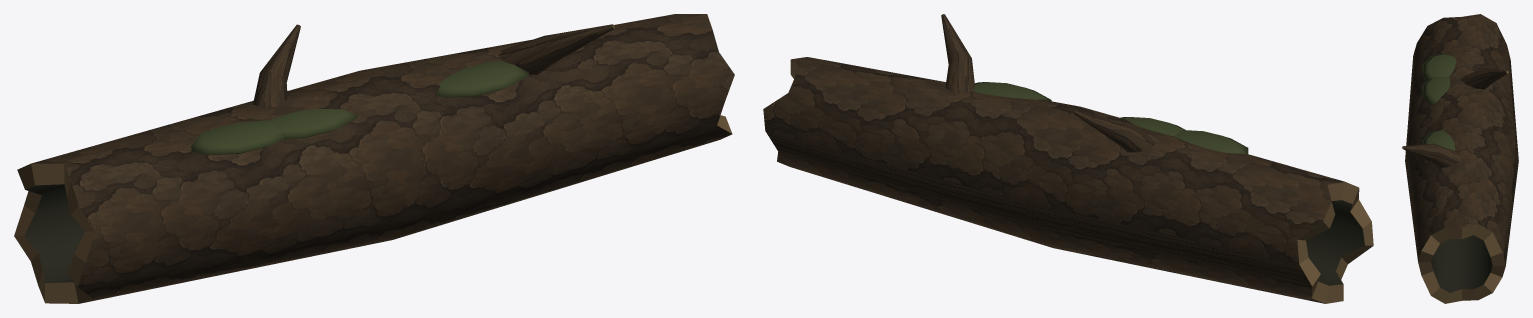
The picture shows the model from 3 angles, left to right: view 1: azimuth 30°, elevation 25°; view 2: azimuth 150°, elevation 25°; view 3: azimuth 270°, elevation 25°; orthographic projection. The views are drawn at different scales.
Visible parts, largest first — view 1: Hollow fallen forest trunk, Broken heavy branch.001, Moss cushion, Moss cushion.002, Broken heavy branch, Moss cushion.001; view 2: Hollow fallen forest trunk, Broken heavy branch.001, Broken heavy branch, Moss cushion, Moss cushion.002, Moss cushion.001; view 3: Hollow fallen forest trunk, Broken heavy branch.001, Moss cushion, Broken heavy branch, Moss cushion.001, Moss cushion.002.
Boxes of the visible parts, x1=… form: Hollow fallen forest trunk: x1=14, y1=14, x2=734, y2=303; Broken heavy branch.001: x1=498, y1=24, x2=614, y2=74; Moss cushion: x1=190, y1=120, x2=284, y2=155; Moss cushion.002: x1=436, y1=61, x2=528, y2=97; Broken heavy branch: x1=253, y1=24, x2=300, y2=107; Moss cushion.001: x1=268, y1=109, x2=357, y2=138; Hollow fallen forest trunk: x1=763, y1=57, x2=1373, y2=303; Broken heavy branch.001: x1=941, y1=14, x2=974, y2=95; Broken heavy branch: x1=1073, y1=110, x2=1159, y2=152; Moss cushion: x1=1174, y1=130, x2=1248, y2=153; Moss cushion.002: x1=972, y1=82, x2=1051, y2=101; Moss cushion.001: x1=1120, y1=117, x2=1185, y2=136; Hollow fallen forest trunk: x1=1405, y1=14, x2=1518, y2=303; Broken heavy branch.001: x1=1402, y1=143, x2=1467, y2=168; Moss cushion: x1=1422, y1=53, x2=1455, y2=80; Broken heavy branch: x1=1460, y1=68, x2=1508, y2=89; Moss cushion.001: x1=1422, y1=76, x2=1449, y2=105; Moss cushion.002: x1=1422, y1=130, x2=1455, y2=150.
Bounding box in the file's own units: 31.06 × 8.69 × 7.18.
4 materials, 1 textured.
